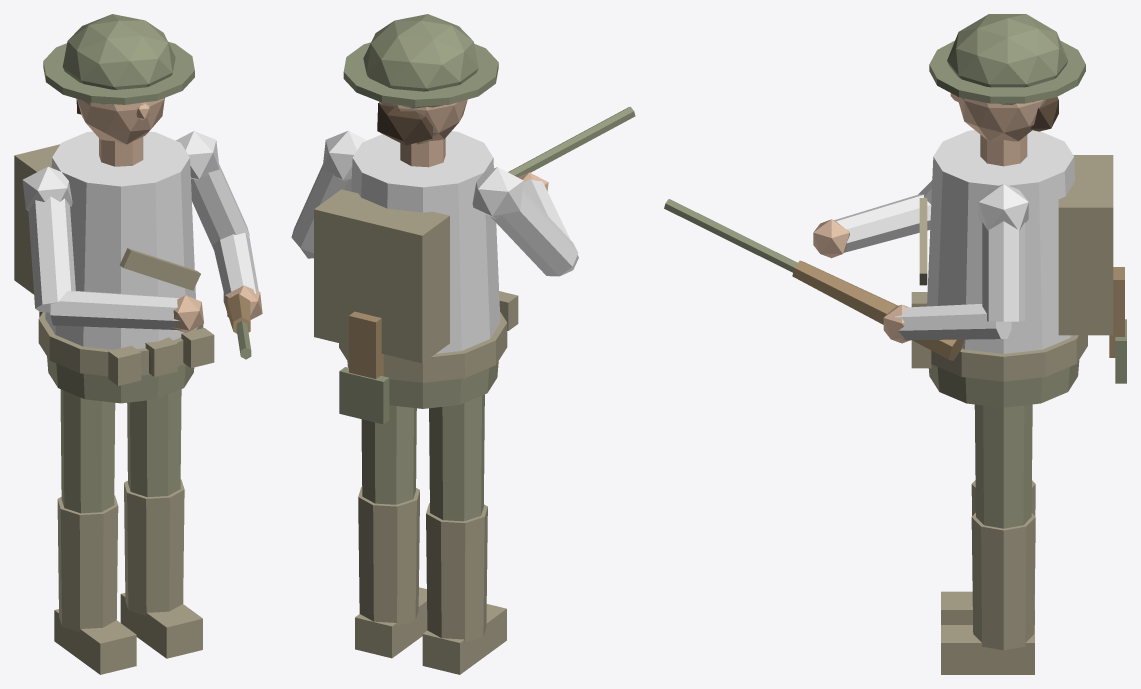
File: civ_unit_infantry.glb
3 views of the same model, side by side, from view 1: azimuth 30°, elevation 25°; view 2: azimuth 150°, elevation 25°; view 3: azimuth 270°, elevation 25° (orthographic). The views are drawn at different scales.
Parts seen in each view (by area): view 1: civ_unit_infantry; view 2: civ_unit_infantry; view 3: civ_unit_infantry.
Part boxes in pixels (x1=…): civ_unit_infantry: x1=14, y1=14, x2=262, y2=674; civ_unit_infantry: x1=291, y1=14, x2=635, y2=674; civ_unit_infantry: x1=664, y1=14, x2=1126, y2=674.
Bounding box in the file's own units: 0.7309 × 1.78 × 1.18.
